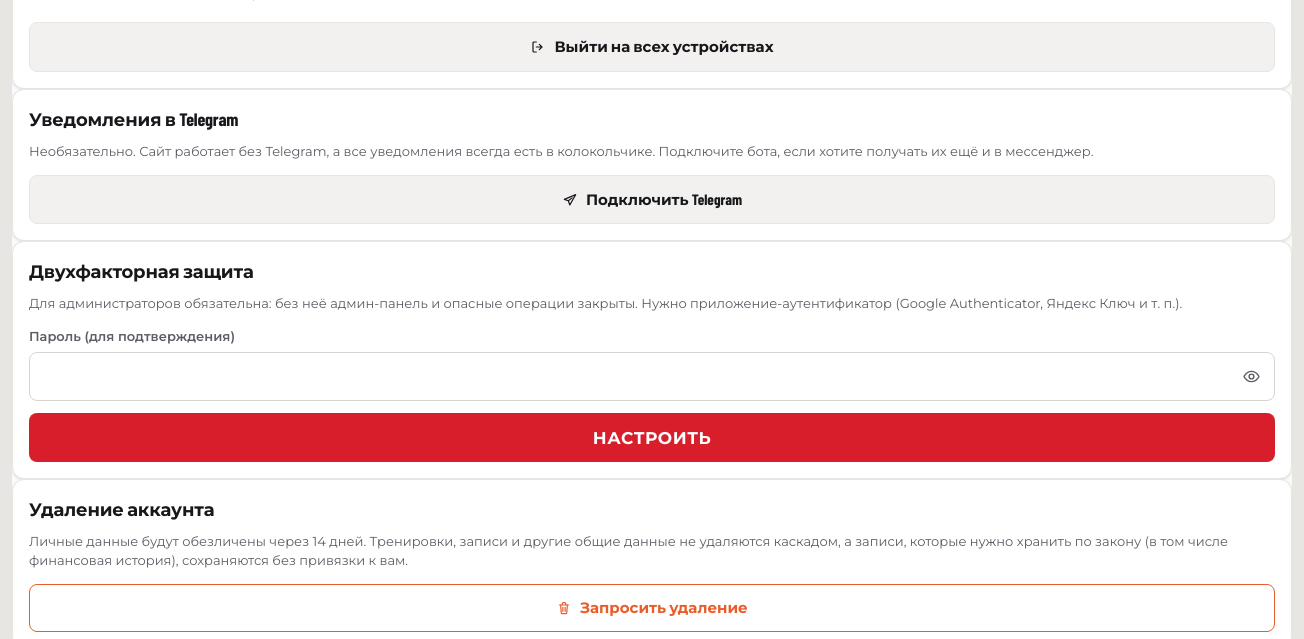
Test case: two-factor › walks an administrator through setup and shows the recovery codes once
This screenshot has width=1304, height=639.
(page scrolled)
Expected: the heading "Двухфакторная защита" is shown, 29,260 -> 254,282
Type "correct horse battery" into the password field labelled "Пароль (для подтверждения)" at [652, 377], box 29,352 -> 1275,401
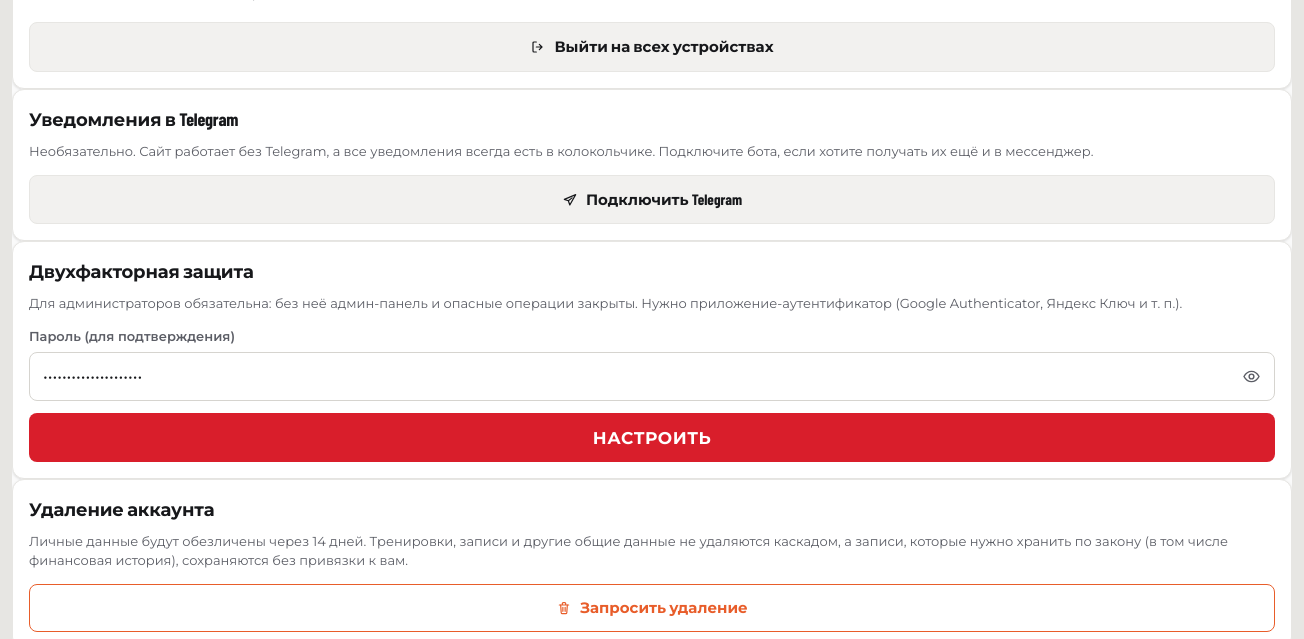
Click the button "Настроить" at [652, 438], box 29,413 -> 1275,462
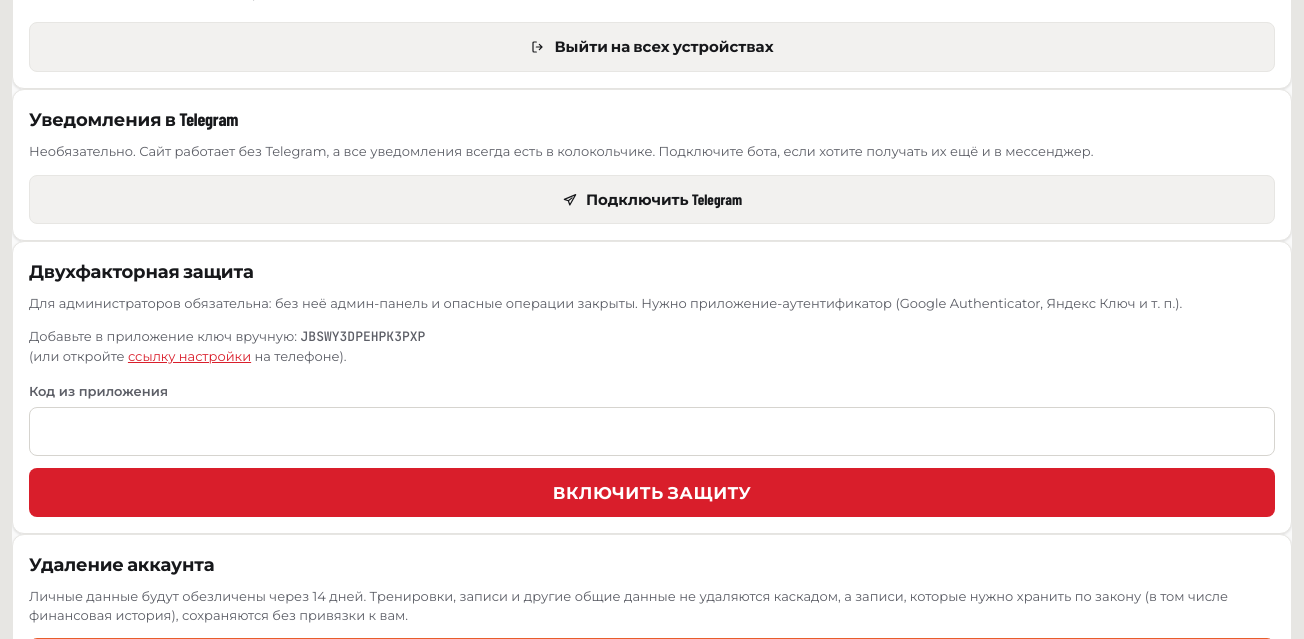
Expected: the text "JBSWY3DPEHPK3PXP" is shown, 300,328 -> 425,345
Type "123456" into the field labelled "Код из приложения" at [652, 431], box 29,407 -> 1275,456
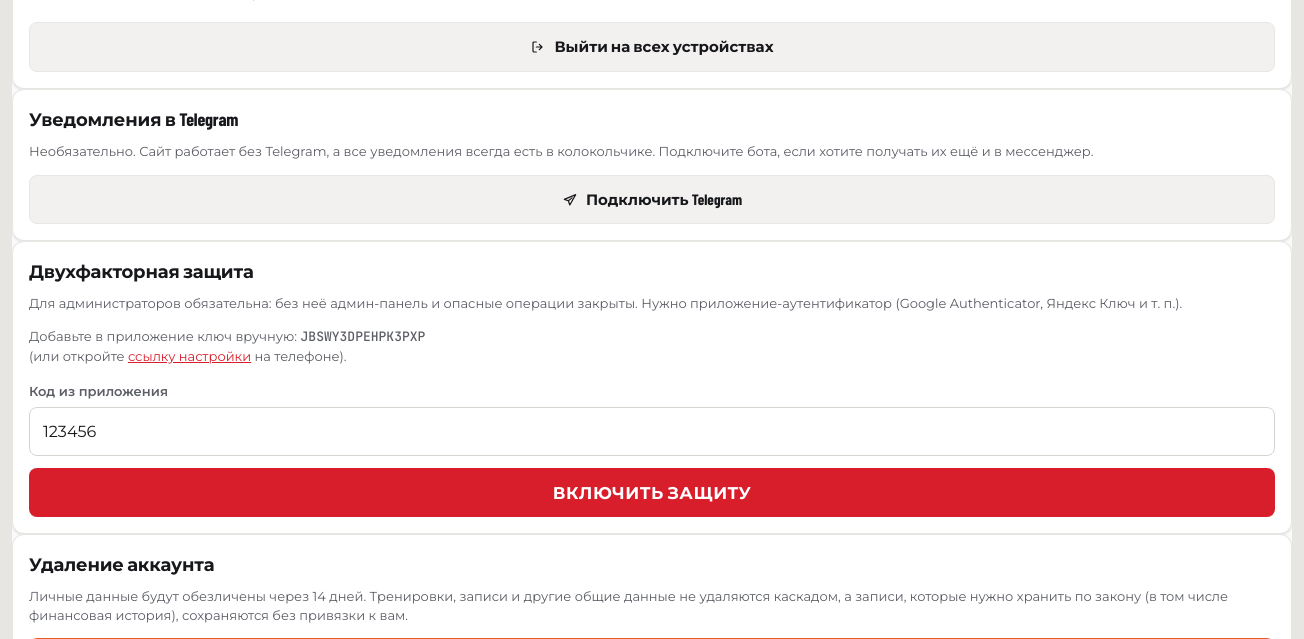
Click the button "Включить защиту" at [652, 492], box 29,468 -> 1275,517
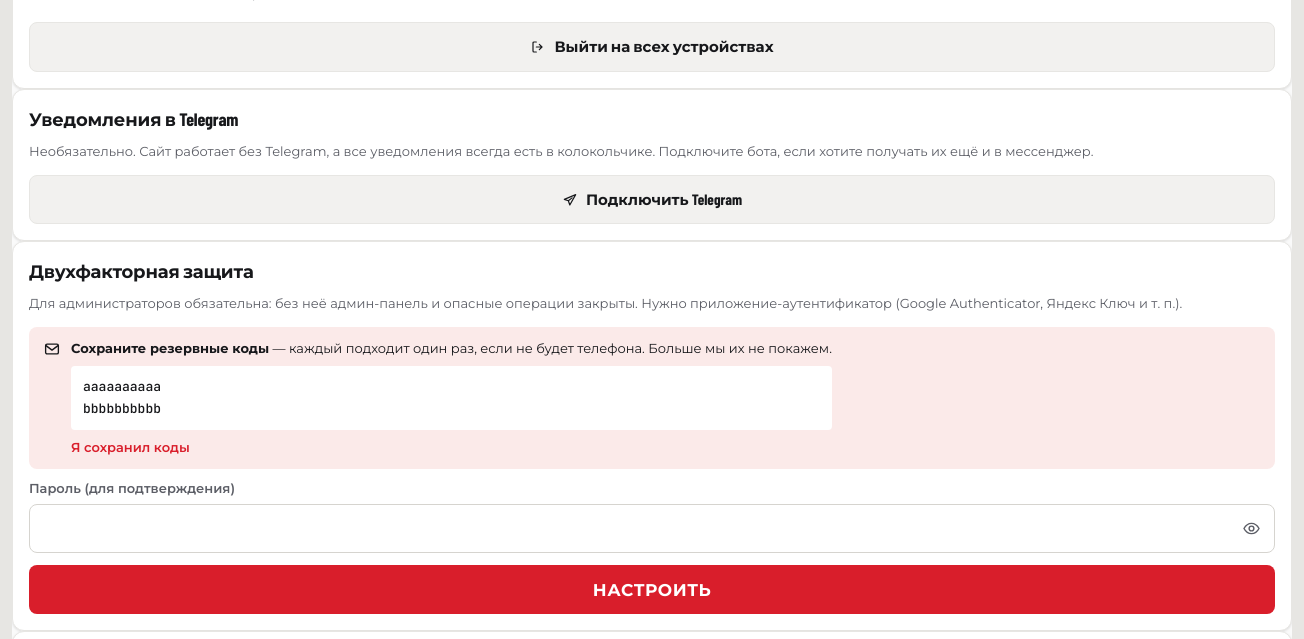
Expected: the text "Сохраните резервные коды" is shown, 71,340 -> 269,356
Expected: the text "aaaaaaaaaa bbbbbbbbbb" is shown, 71,366 -> 832,430
